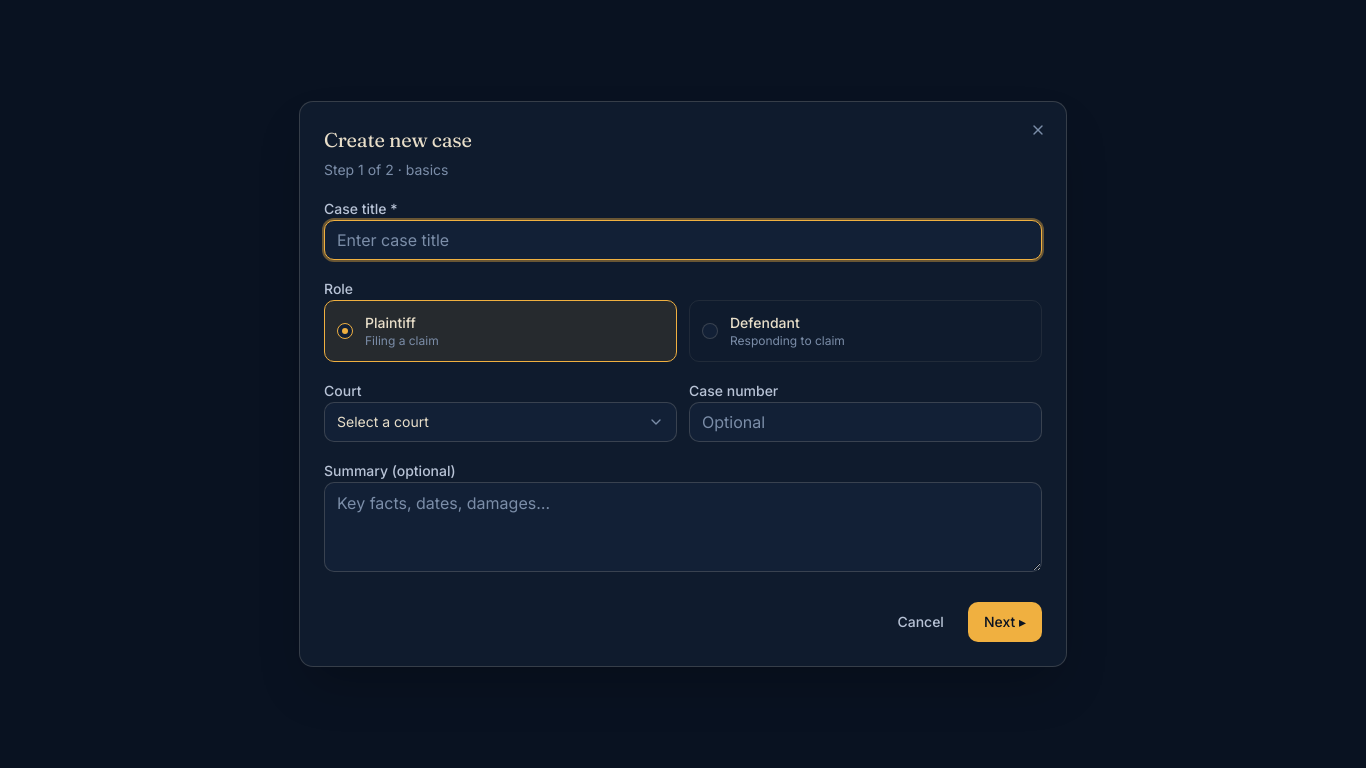
Test: CreateCaseDialog › advances to step B when Next clicked with valid title
The width and height of the screenshot is (1366, 768).
Type "Test Case" into the field labelled "Case title *" at (683, 240), box [324,220,1042,260]
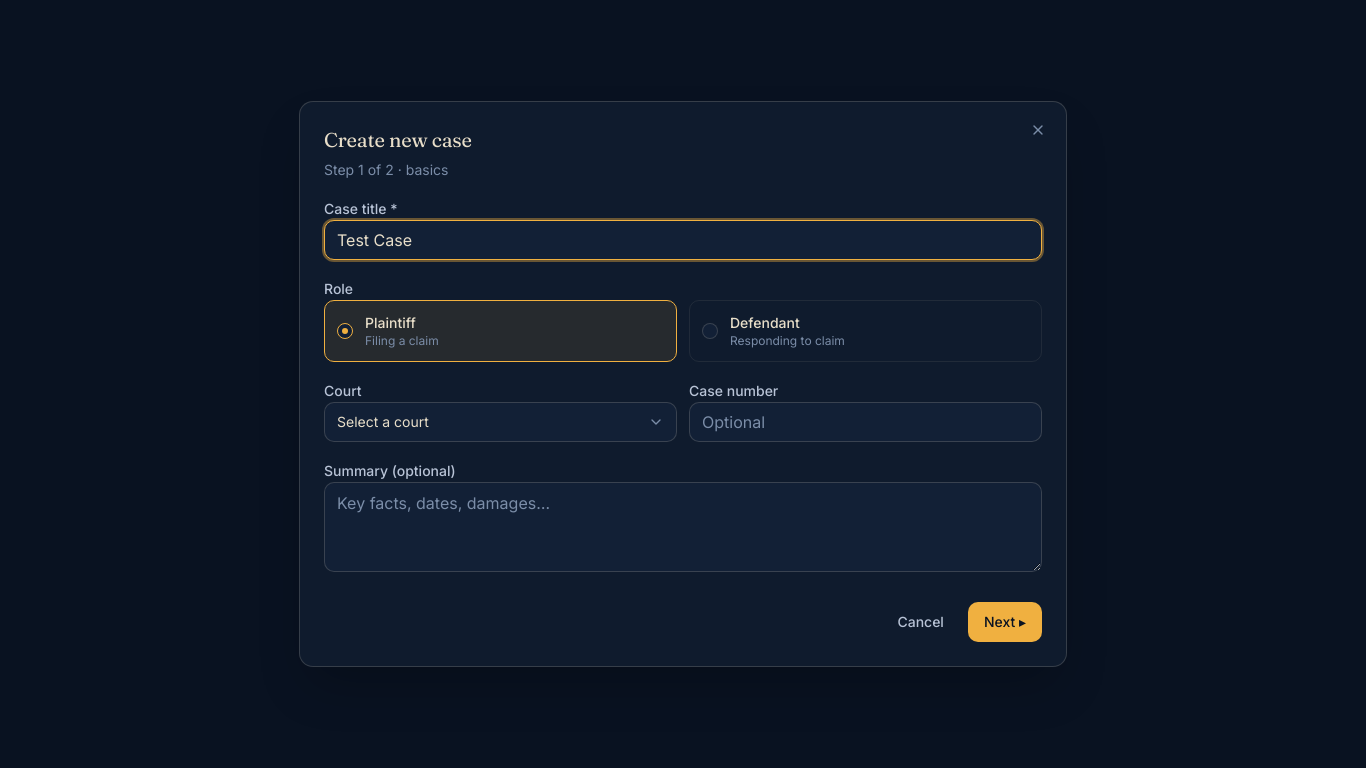
Click the button "Next ▸" at (1005, 622), box [968,602,1042,642]
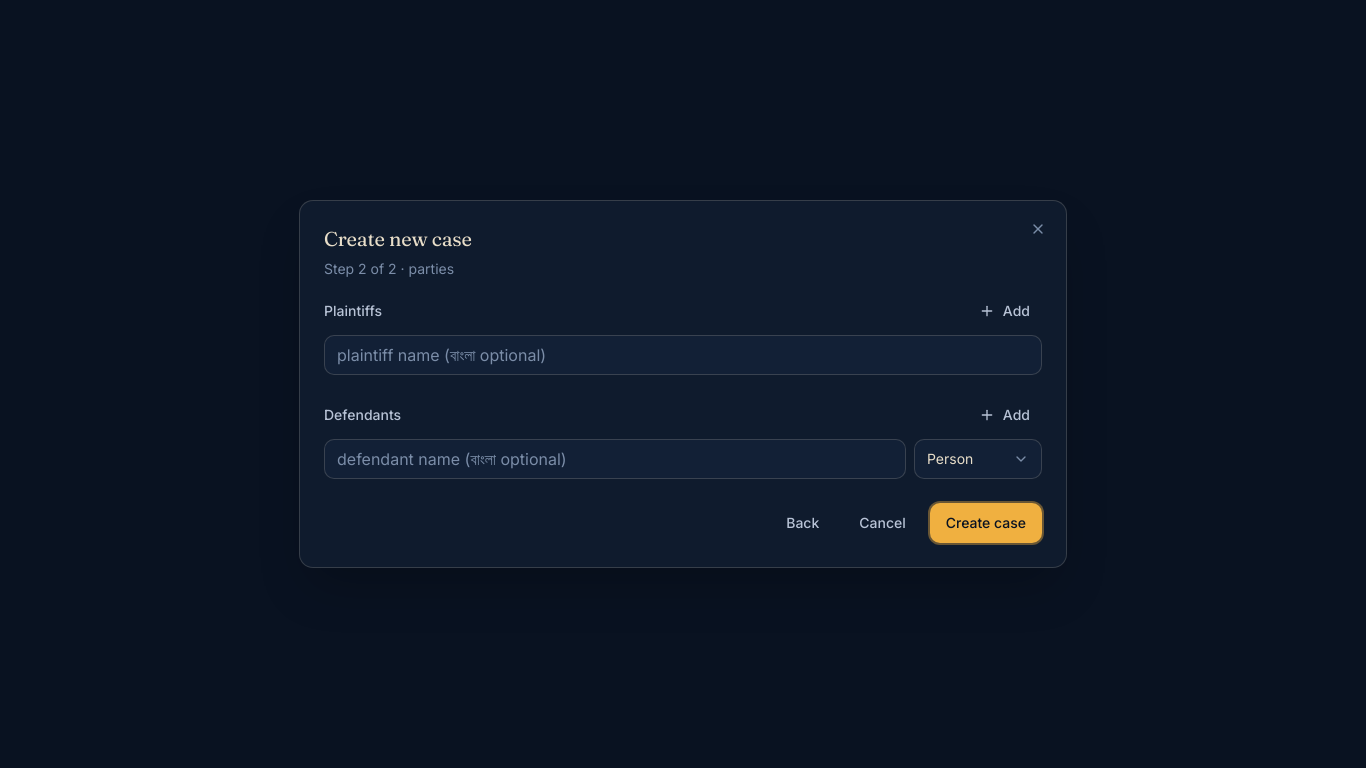
Expected: the text "Plaintiffs" is shown, [324,301,382,321]
Expected: the text "Defendants" is shown, [324,405,401,425]
